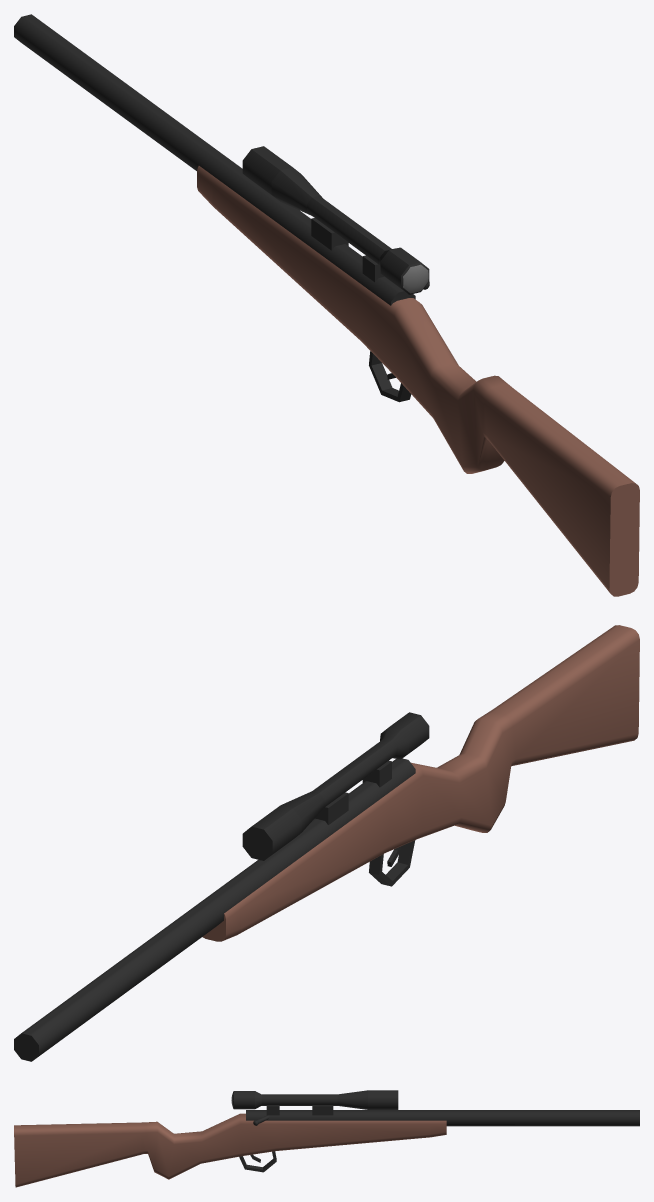
The model's file is sniperLowpoly.glb.
3 renders of one model, top to bottom at view 1: azimuth 30°, elevation 25°; view 2: azimuth 150°, elevation 25°; view 3: azimuth 270°, elevation 25°, orthographic. The views are drawn at different scales.
Visible parts, largest first — view 1: M40 Body_32; view 2: M40 Body_32; view 3: M40 Body_32.
Part boxes in pixels (x1=…): M40 Body_32: x1=14, y1=14, x2=639, y2=596; M40 Body_32: x1=14, y1=625, x2=639, y2=1061; M40 Body_32: x1=14, y1=1090, x2=639, y2=1187.
Size of the model in its own units: 0.0546 by 0.1858 by 1.12.
